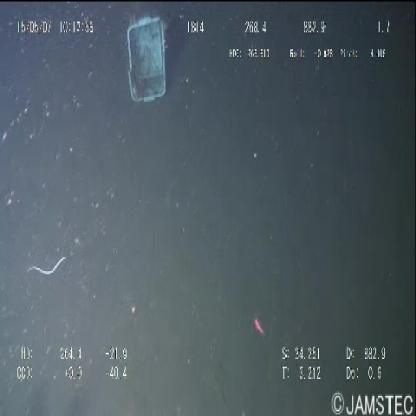Rác: (121, 9, 171, 108)
